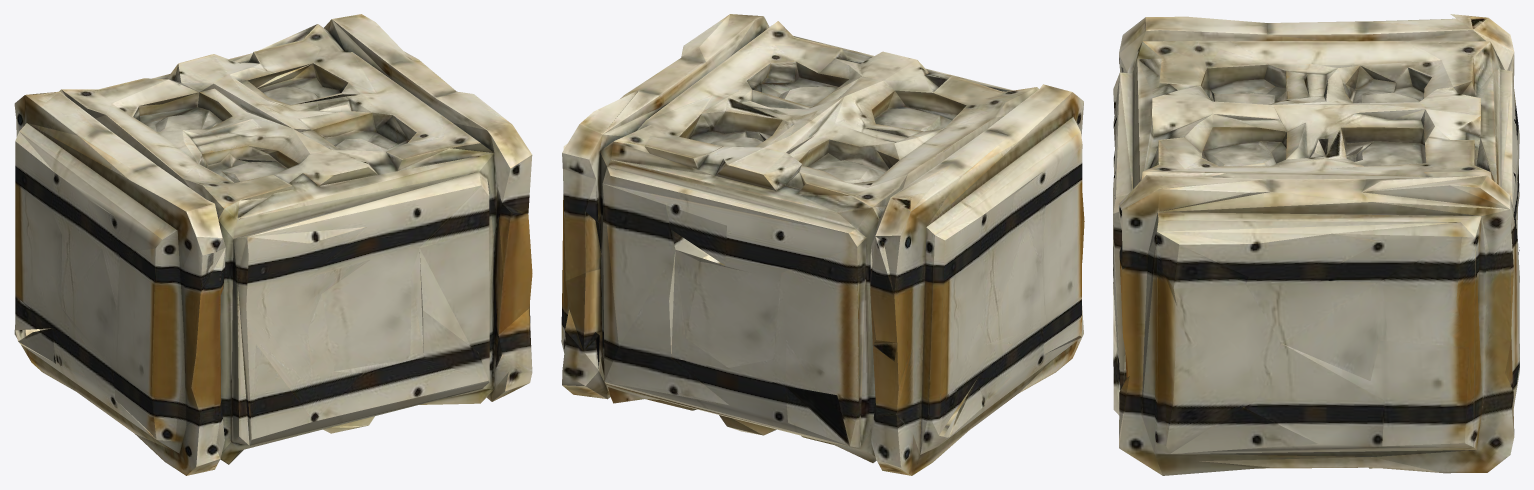
The model's file is module-armor.glb.
3 renders of one model, left to right at view 1: azimuth 30°, elevation 25°; view 2: azimuth 150°, elevation 25°; view 3: azimuth 270°, elevation 25°, orthographic. The views are drawn at different scales.
Bounding box in the file's own units: 1.88 × 1.29 × 1.63.
1 material, 1 textured.
